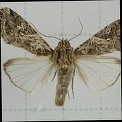Spodoptera litura: (1, 5, 121, 108)
